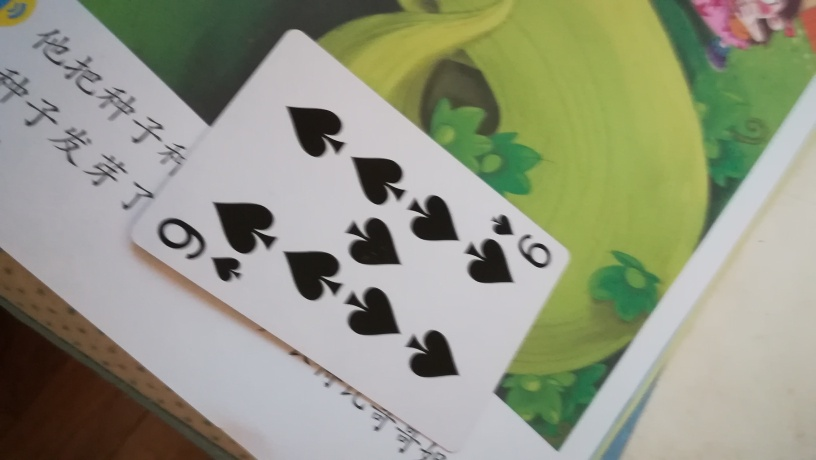ht 9: (127, 26, 574, 458)
